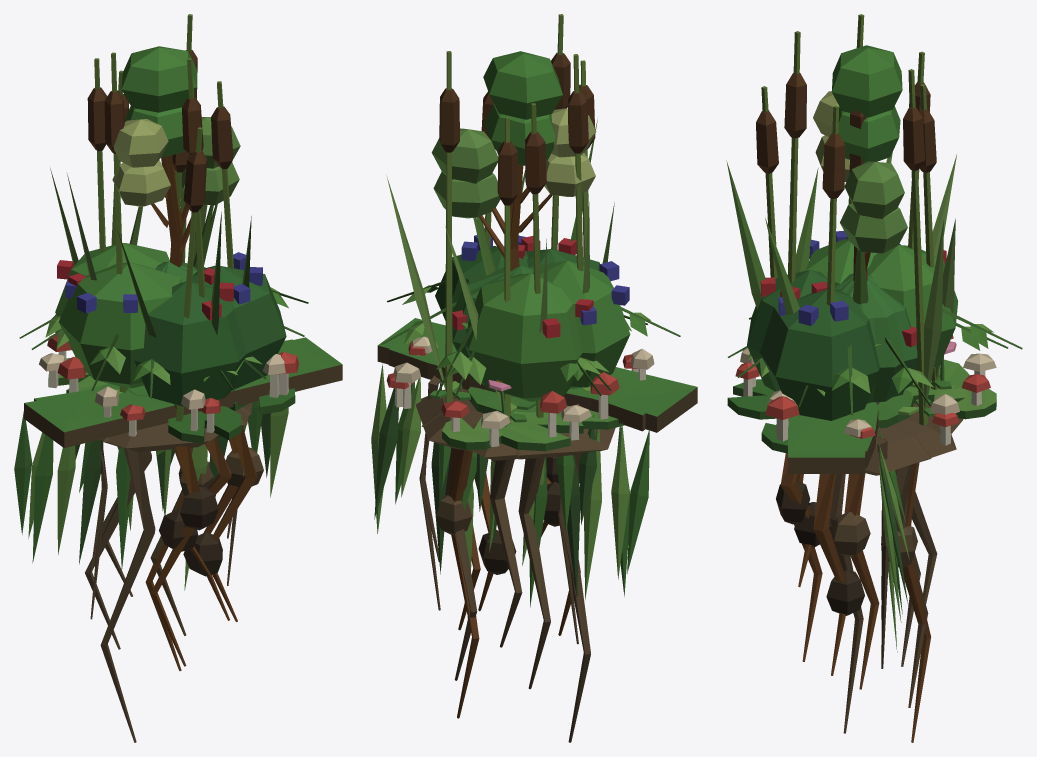
The model's file is meadow.glb.
3 renders of one model, left to right at view 1: azimuth 30°, elevation 25°; view 2: azimuth 150°, elevation 25°; view 3: azimuth 270°, elevation 25°, orthographic. The views are drawn at different scales.
Visible parts, largest first — view 1: meadow_berry_bush_b, meadow_berry_bush_a, meadow_grass_drape_a, meadow_grass_drape_b, meadow_island_roots_b, meadow_cattails_b, meadow_sapling_b, meadow_island_roots_a, meadow_cattails_a, meadow_sapling_a, meadow_fairy_ring_b, meadow_fairy_ring_a (+4 smaller); view 2: meadow_grass_drape_b, meadow_berry_bush_a, meadow_grass_drape_a, meadow_island_roots_b, meadow_cattails_a, meadow_berry_bush_b, meadow_sapling_b, meadow_island_roots_a, meadow_cattails_b, meadow_sapling_a, meadow_fairy_ring_b, meadow_fairy_ring_a (+4 smaller); view 3: meadow_berry_bush_b, meadow_cattails_a, meadow_island_roots_b, meadow_cattails_b, meadow_island_roots_a, meadow_berry_bush_a, meadow_sapling_b, meadow_sapling_a, meadow_grass_drape_a, meadow_grass_drape_b, meadow_fairy_ring_b, meadow_lily_pads_a (+4 smaller).
Part boxes in pixels (left/top/right/bottom): meadow_berry_bush_b: left=58, top=252, right=286, bottom=389; meadow_berry_bush_a: left=55, top=243, right=246, bottom=406; meadow_grass_drape_a: left=32, top=339, right=330, bottom=571; meadow_grass_drape_b: left=14, top=337, right=342, bottom=619; meadow_island_roots_b: left=100, top=409, right=256, bottom=742; meadow_cattails_b: left=66, top=52, right=251, bottom=421; meadow_sapling_b: left=113, top=46, right=240, bottom=266; meadow_island_roots_a: left=85, top=402, right=263, bottom=649; meadow_cattails_a: left=50, top=14, right=221, bottom=335; meadow_sapling_a: left=112, top=106, right=239, bottom=266; meadow_fairy_ring_b: left=47, top=334, right=298, bottom=436; meadow_fairy_ring_a: left=39, top=353, right=285, bottom=431; meadow_grass_drape_b: left=371, top=318, right=697, bottom=644; meadow_berry_bush_a: left=445, top=236, right=599, bottom=401; meadow_grass_drape_a: left=374, top=322, right=653, bottom=607; meadow_island_roots_b: left=421, top=403, right=590, bottom=742; meadow_cattails_a: left=387, top=14, right=597, bottom=417; meadow_berry_bush_b: left=435, top=235, right=630, bottom=388; meadow_sapling_b: left=431, top=51, right=596, bottom=270; meadow_island_roots_a: left=416, top=388, right=615, bottom=689; meadow_cattails_b: left=445, top=54, right=614, bottom=424; meadow_sapling_a: left=433, top=104, right=595, bottom=257; meadow_fairy_ring_b: left=386, top=342, right=638, bottom=437; meadow_fairy_ring_a: left=393, top=336, right=654, bottom=446; meadow_berry_bush_b: left=760, top=231, right=917, bottom=420; meadow_cattails_a: left=726, top=31, right=956, bottom=425; meadow_island_roots_b: left=776, top=402, right=963, bottom=742; meadow_cattails_b: left=756, top=14, right=955, bottom=389; meadow_island_roots_a: left=776, top=414, right=956, bottom=707; meadow_berry_bush_a: left=747, top=245, right=958, bottom=402; meadow_sapling_b: left=813, top=45, right=904, bottom=280; meadow_sapling_a: left=815, top=106, right=907, bottom=281; meadow_grass_drape_a: left=788, top=402, right=909, bottom=619; meadow_grass_drape_b: left=788, top=402, right=902, bottom=668; meadow_fairy_ring_b: left=735, top=335, right=990, bottom=445; meadow_lily_pads_a: left=727, top=359, right=969, bottom=428.
Size of the model in its own units: 0.9226 by 2.19 by 0.818.
